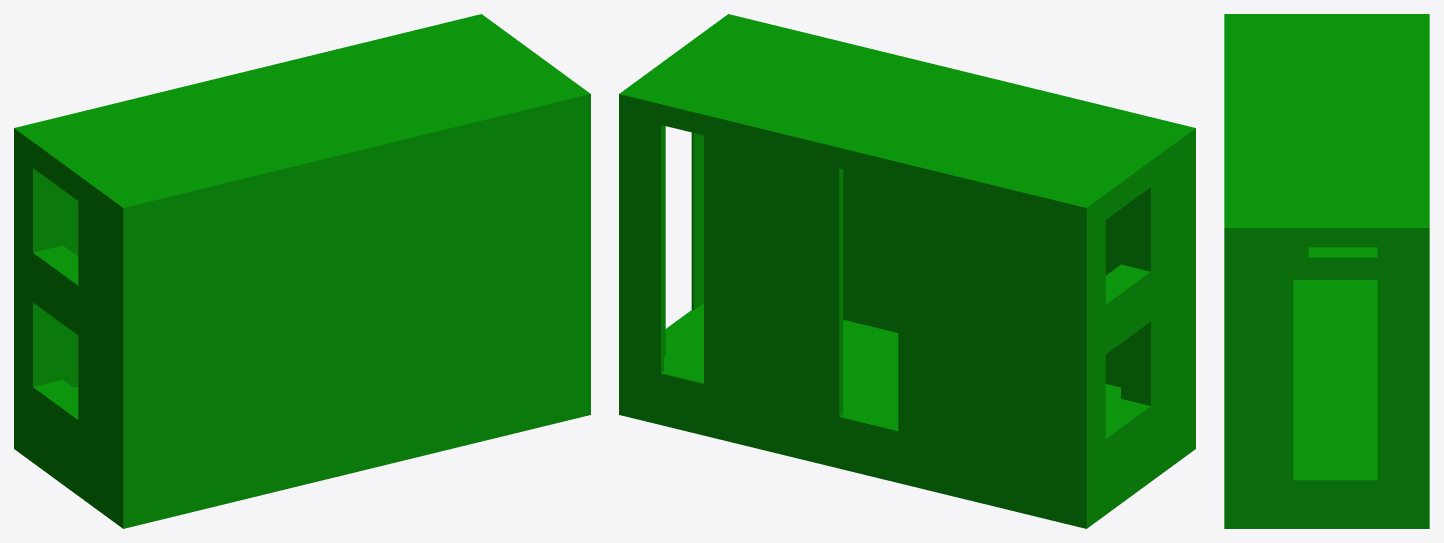
File: chambre2_rdc.obj
The picture shows the model from 3 angles, left to right: view 1: azimuth 30°, elevation 25°; view 2: azimuth 150°, elevation 25°; view 3: azimuth 270°, elevation 25°; orthographic projection. The views are drawn at different scales.
Visible parts, largest first — view 1: Chambre2_RDC_Cube.011; view 2: Chambre2_RDC_Cube.011; view 3: Chambre2_RDC_Cube.011.
Part boxes in pixels (x1=…): Chambre2_RDC_Cube.011: x1=14, y1=14, x2=590, y2=528; Chambre2_RDC_Cube.011: x1=619, y1=14, x2=1195, y2=528; Chambre2_RDC_Cube.011: x1=1224, y1=14, x2=1429, y2=528.
Bounding box in the file's own units: 4.73 × 3.1 × 1.91.
